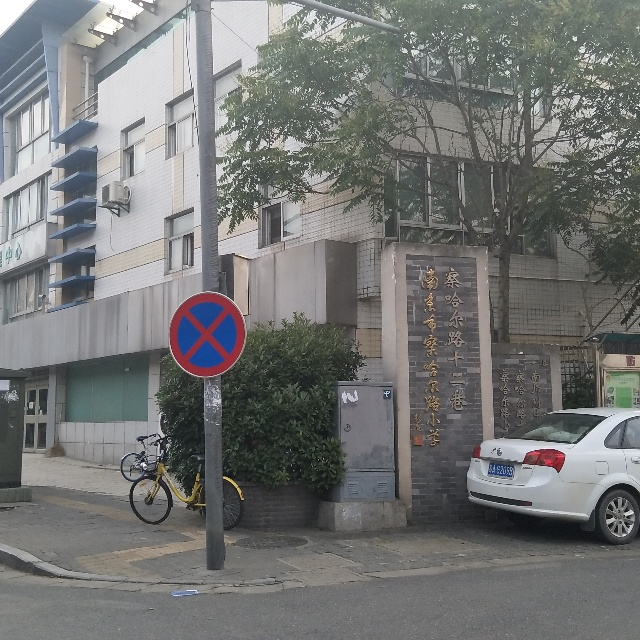stop: (171, 301, 245, 376)
